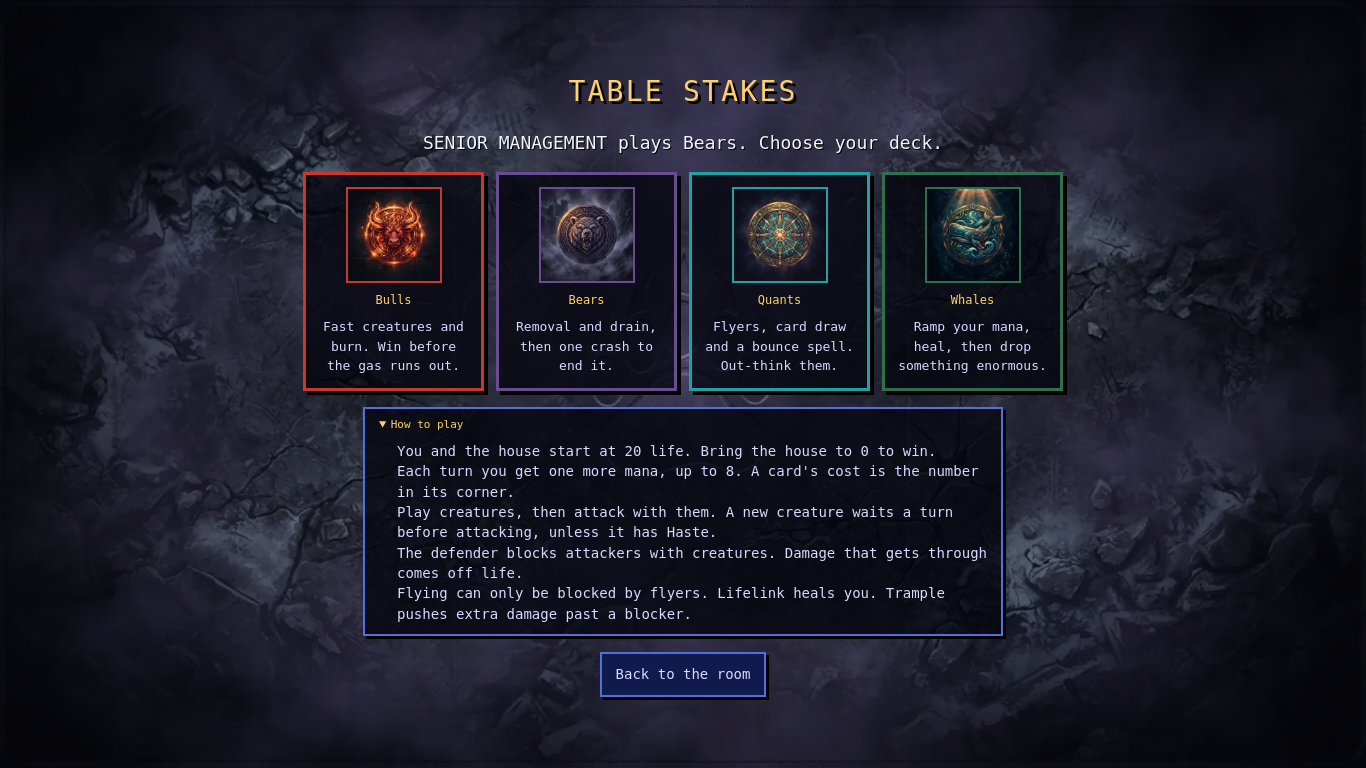
Test case: DuelGame › announces the house deck and starts a game from the deck you choose
Click the button with aria-label "Play Bulls" at (394, 281), box [303, 172, 484, 391]
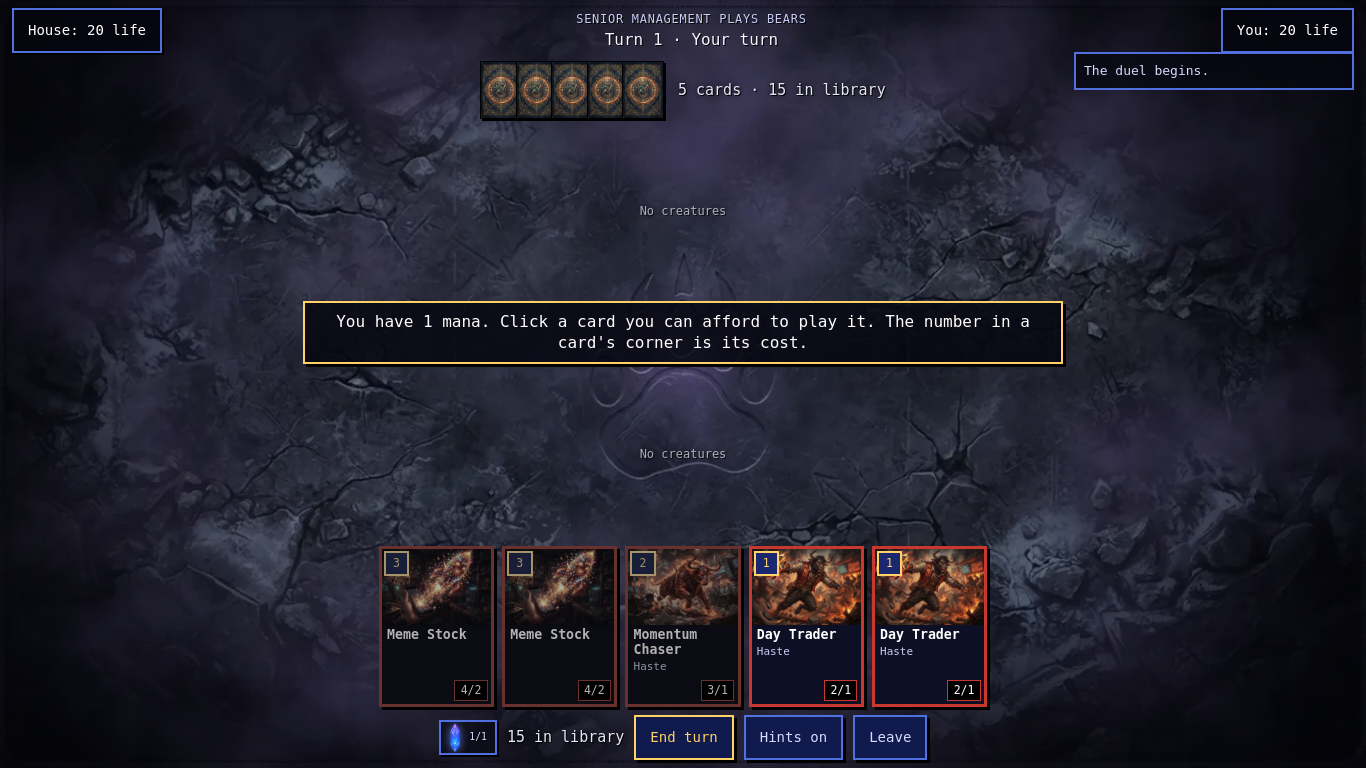
Check: the text "SENIOR MANAGEMENT plays Bears" is shown, box [576, 12, 807, 26]
Check: the button "You: 20 life" is shown, box [1221, 8, 1354, 53]
Check: the button "House: 20 life" is shown, box [12, 8, 162, 53]
